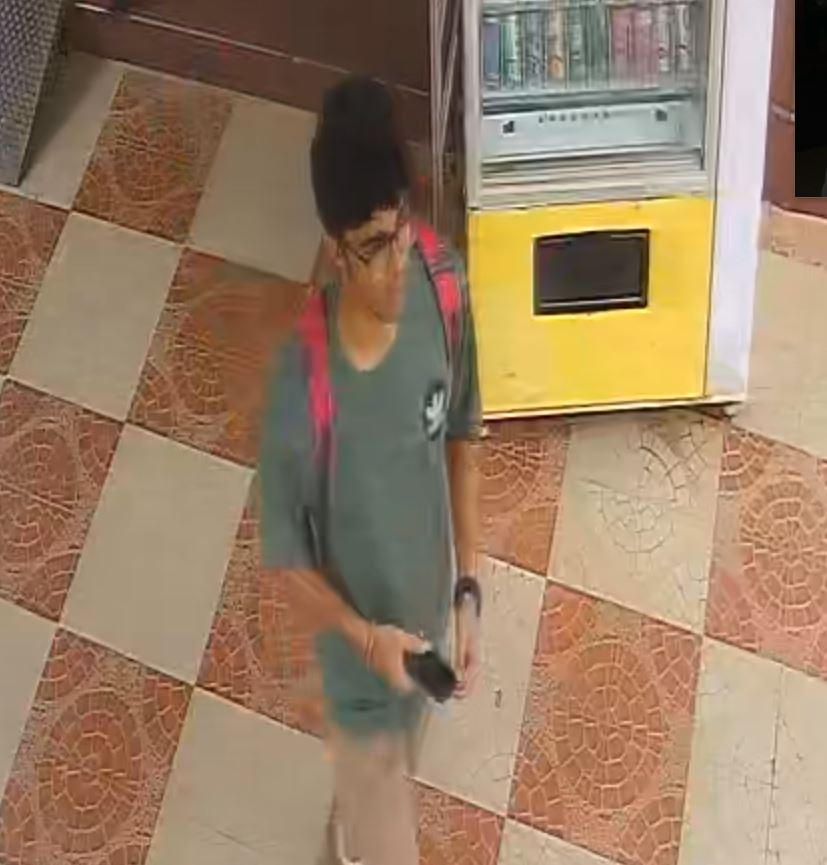intruder: (247, 57, 533, 865)
